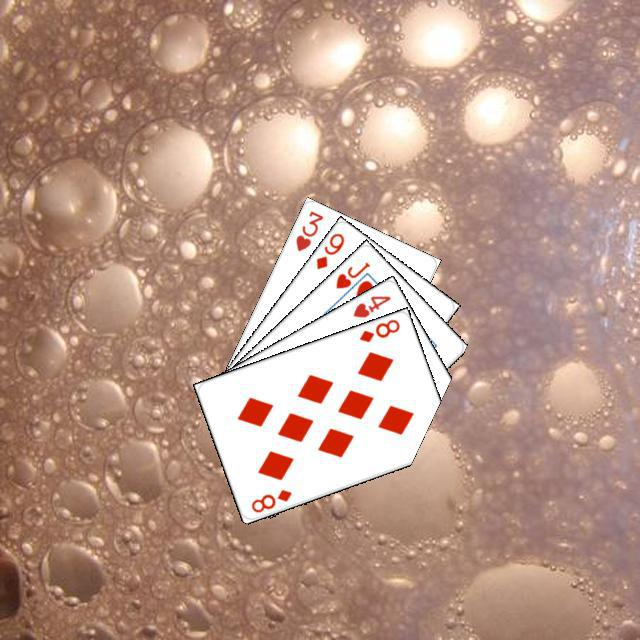3h: (291, 206, 325, 253)
4h: (348, 290, 392, 320)
8d: (354, 314, 402, 344), (246, 484, 293, 514)
9d: (311, 228, 346, 271)
Jh: (331, 257, 372, 290)
